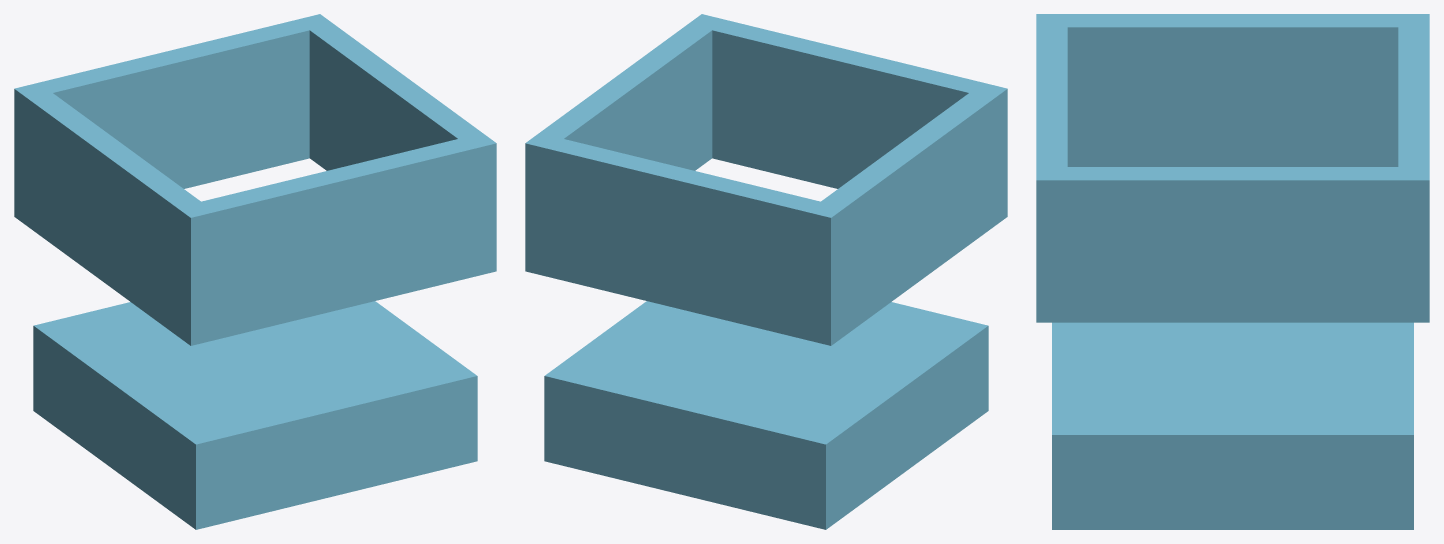
The model's file is zone.glb.
3 views of the same model, side by side, from view 1: azimuth 30°, elevation 25°; view 2: azimuth 150°, elevation 25°; view 3: azimuth 270°, elevation 25° (orthographic). The views are drawn at different scales.
Visible parts, largest first — view 1: module.zone; view 2: module.zone; view 3: module.zone.
Part boxes in pixels (bbox=[...]): module.zone: bbox=[14, 14, 496, 529]; module.zone: bbox=[525, 14, 1007, 529]; module.zone: bbox=[1036, 14, 1429, 529].
Size of the model in its own units: 1 by 1 by 1.
